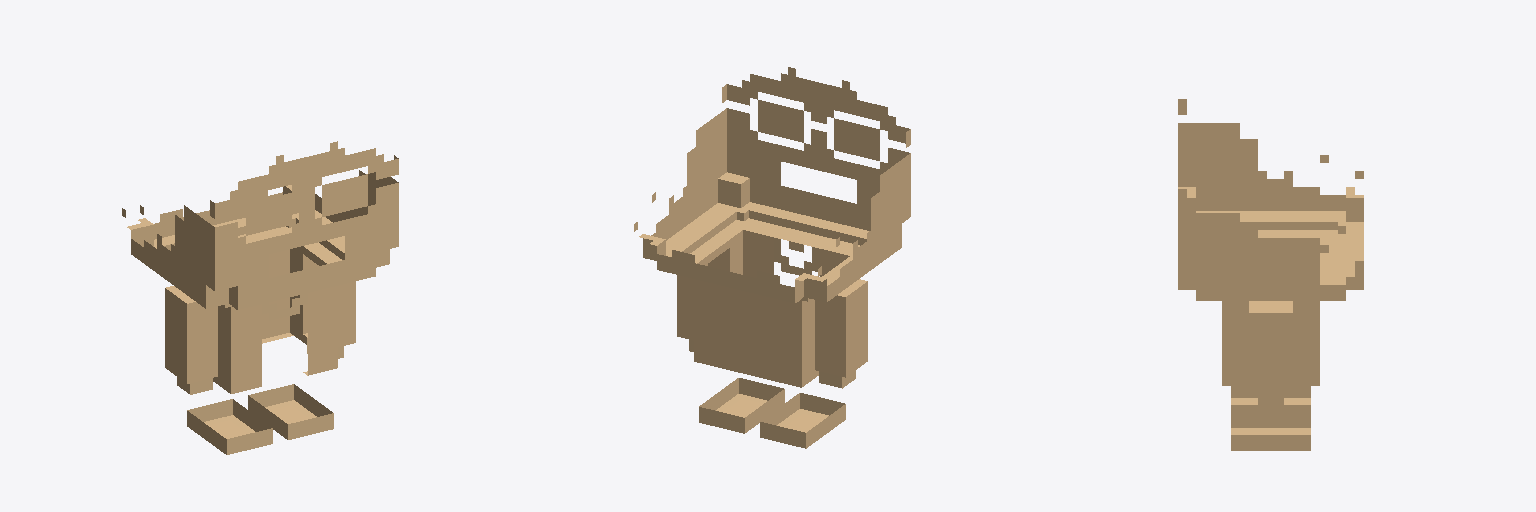
3 renders of one model, left to right at view 1: azimuth 30°, elevation 25°; view 2: azimuth 150°, elevation 25°; view 3: azimuth 270°, elevation 25°, orthographic.
Parts seen in each view (by area): view 1: object 1; view 2: object 1; view 3: object 1.
Boxes of the visible parts, <box> form: object 1: <box>122,141,398,454</box>; object 1: <box>634,67,910,448</box>; object 1: <box>1178,99,1363,450</box>.
Size of the model in its own units: 3.2 by 4.2 by 2.5.
1 materials, 1 textured.